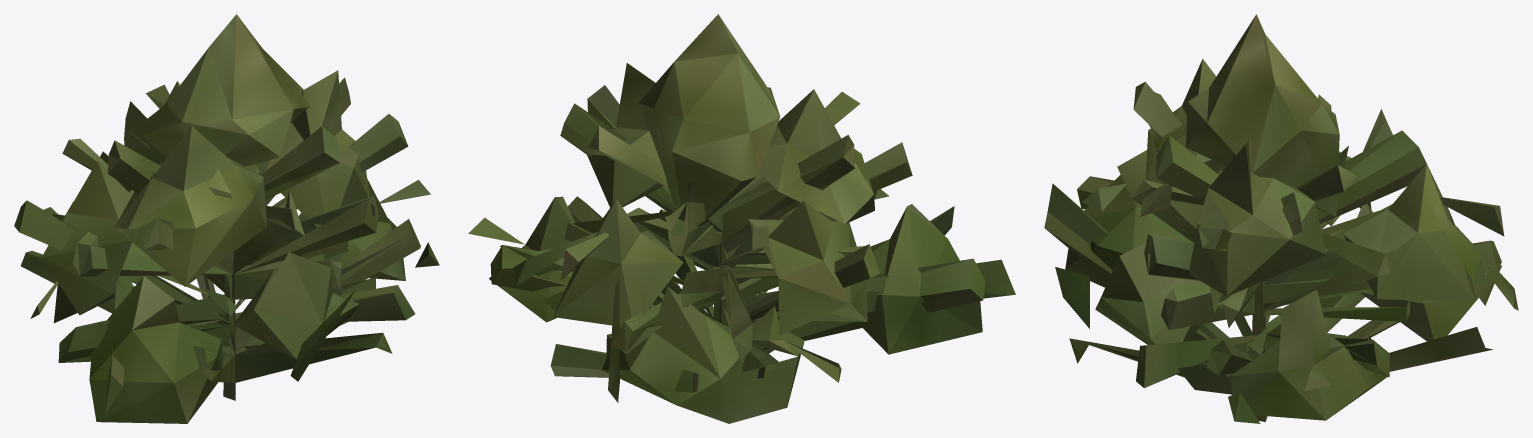
File: bush_01_game_lod1.glb
3 views of the same model, side by side, from view 1: azimuth 30°, elevation 25°; view 2: azimuth 150°, elevation 25°; view 3: azimuth 270°, elevation 25° (orthographic). The views are drawn at different scales.
Visible parts, largest first — view 1: geometry_0; view 2: geometry_0; view 3: geometry_0.
Boxes of the visible parts, left/top/right/bottom form: geometry_0: left=14, top=14, right=439, bottom=423; geometry_0: left=468, top=14, right=1015, bottom=423; geometry_0: left=1044, top=14, right=1518, bottom=423.
Bounding box in the file's own units: 2.52 × 2.11 × 2.23.
1 material, 1 textured.
